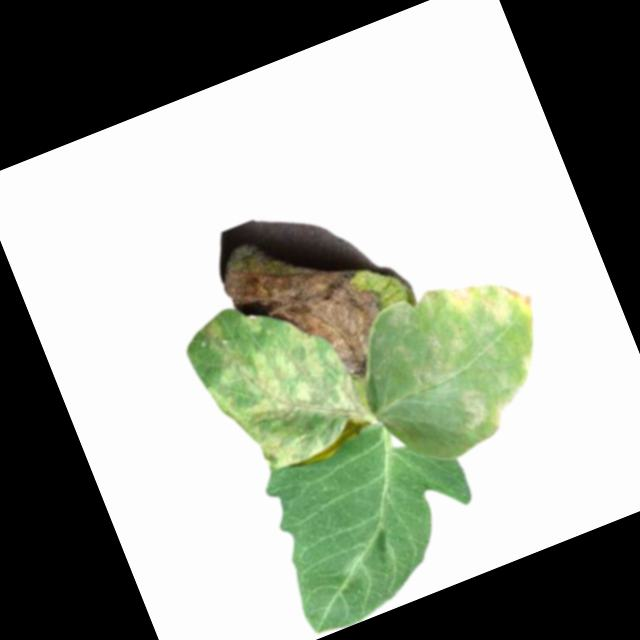Late_blight: (176, 274, 372, 486), (212, 205, 406, 417), (440, 260, 537, 347), (453, 371, 529, 441), (407, 354, 456, 395)
